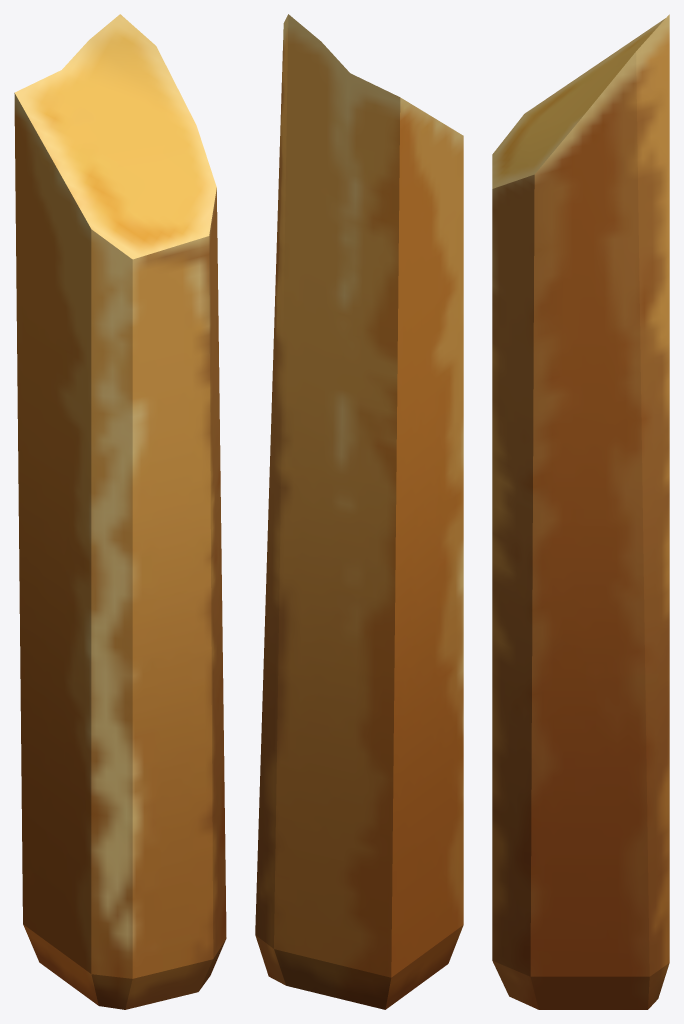
File: Snack 1.glb
3 renders of one model, left to right at view 1: azimuth 30°, elevation 25°; view 2: azimuth 150°, elevation 25°; view 3: azimuth 270°, elevation 25°, orthographic. The views are drawn at different scales.
Parts seen in each view (by area): view 1: SkillObj_Chevreuse_Show_Snack1_LOD0; view 2: SkillObj_Chevreuse_Show_Snack1_LOD0; view 3: SkillObj_Chevreuse_Show_Snack1_LOD0.
Part boxes in pixels (x1=…): SkillObj_Chevreuse_Show_Snack1_LOD0: x1=14, y1=14, x2=226, y2=1009; SkillObj_Chevreuse_Show_Snack1_LOD0: x1=255, y1=14, x2=463, y2=1009; SkillObj_Chevreuse_Show_Snack1_LOD0: x1=492, y1=14, x2=669, y2=1009.
Size of the model in its own units: 0.00823 by 0.0496 by 0.00813.
Materials: 1 (1 with a texture image).
